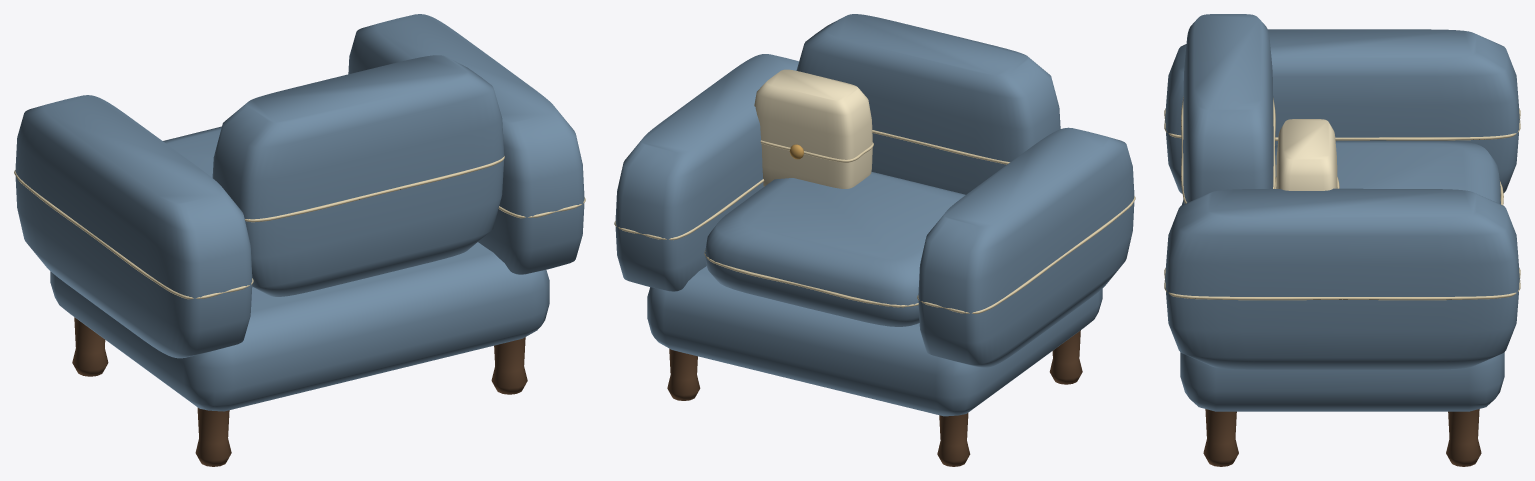
File: armchair.glb
3 renders of one model, left to right at view 1: azimuth 30°, elevation 25°; view 2: azimuth 150°, elevation 25°; view 3: azimuth 270°, elevation 25°, orthographic. The views are drawn at different scales.
Visible parts, largest first — view 1: House_armchair; view 2: House_armchair; view 3: House_armchair.
Part boxes in pixels (x1,y1,x2,y2): House_armchair: [14, 14, 585, 466]; House_armchair: [614, 14, 1135, 466]; House_armchair: [1164, 14, 1520, 466].
Size of the model in its own units: 1.32 by 1.01 by 1.
